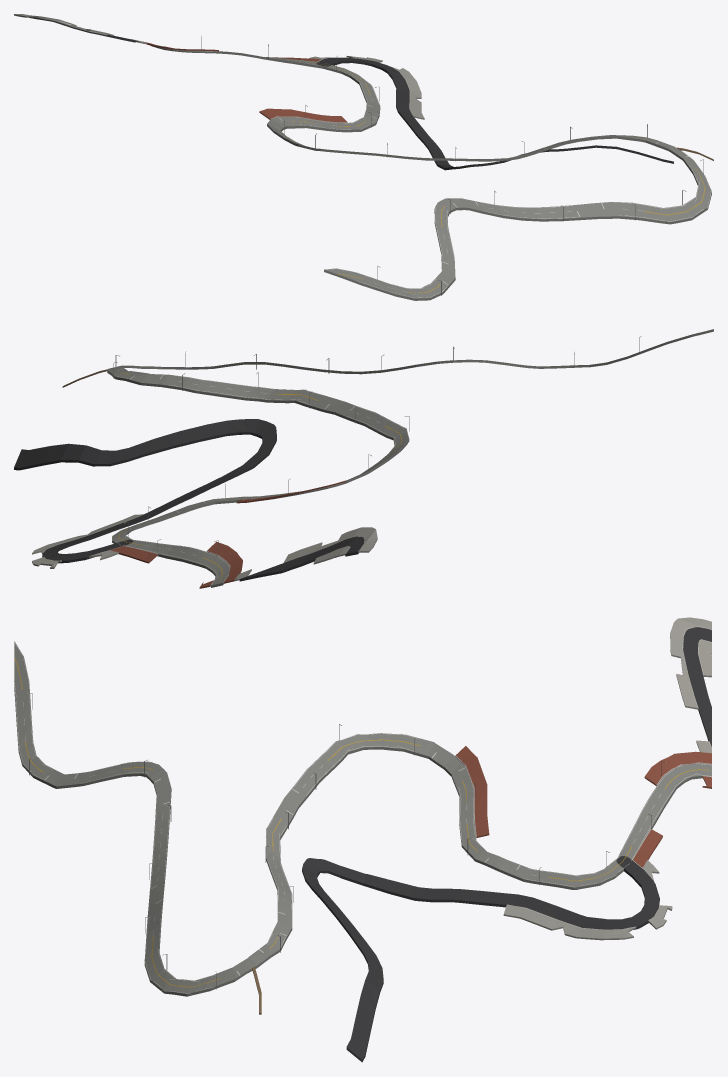
The picture shows the model from 3 angles, top to bottom: view 1: azimuth 30°, elevation 25°; view 2: azimuth 150°, elevation 25°; view 3: azimuth 270°, elevation 25°; orthographic projection. The views are drawn at different scales.
Bounding box in the file's own units: 266 × 84.86 × 293.
